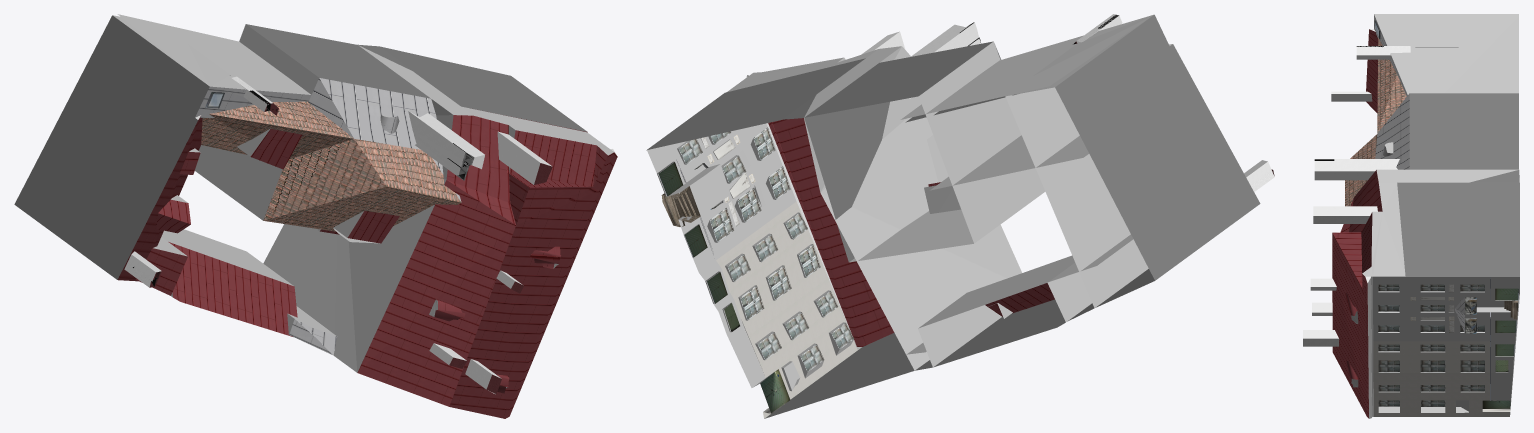
The model's file is Rataskaevu_14-origo.obj.
The picture shows the model from 3 angles, left to right: view 1: azimuth 30°, elevation 25°; view 2: azimuth 150°, elevation 25°; view 3: azimuth 270°, elevation 25°; orthographic projection. The views are drawn at different scales.
Parts seen in each view (by area): view 1: Rataskaevu_14; view 2: Rataskaevu_14; view 3: Rataskaevu_14.
Part boxes in pixels (left/top/right/bottom): Rataskaevu_14: left=14, top=14, right=617, bottom=418; Rataskaevu_14: left=646, top=14, right=1274, bottom=418; Rataskaevu_14: left=1303, top=14, right=1519, bottom=418.
Bounding box in the file's own units: 38.25 × 29 × 19.17.
